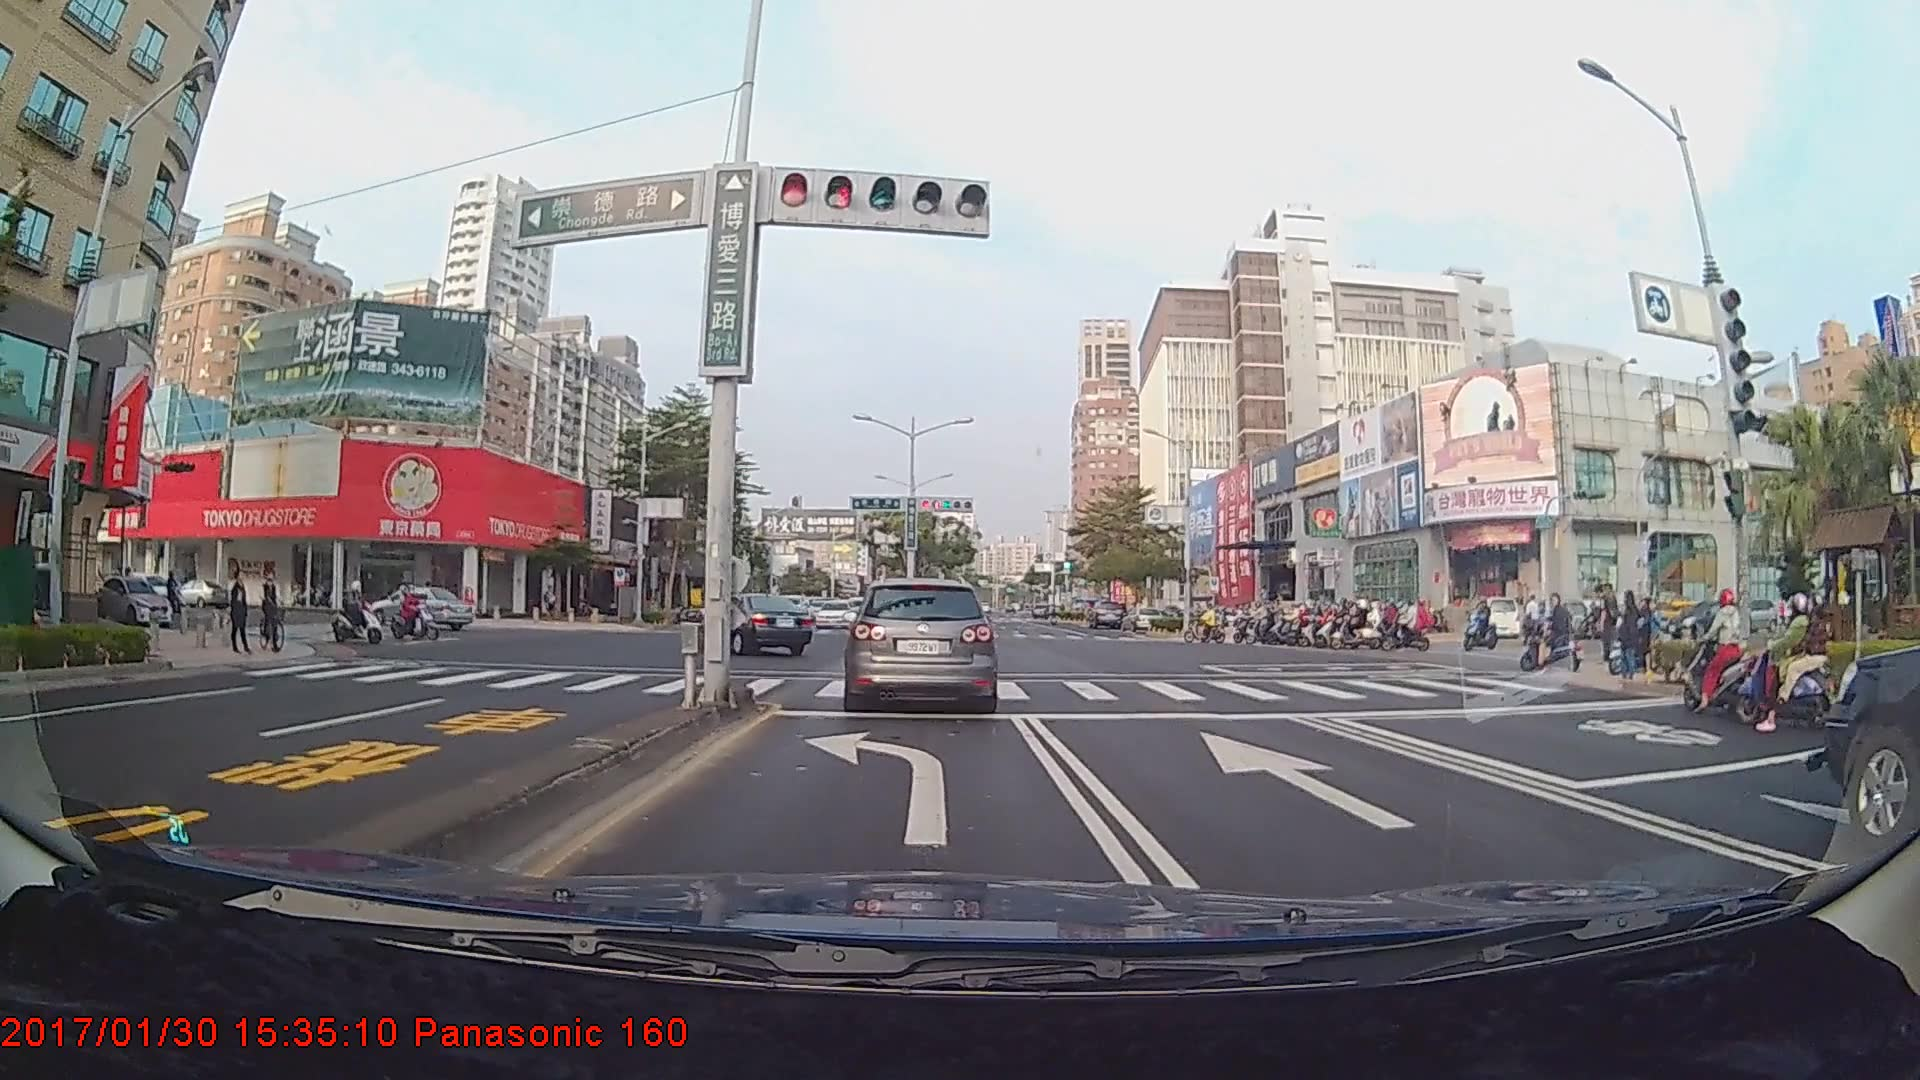pedestrian: (1614, 579, 1646, 689), (230, 572, 250, 660), (1601, 582, 1621, 666)
rider: (1736, 593, 1841, 736), (1691, 586, 1784, 724), (1516, 600, 1590, 671), (1605, 588, 1660, 680), (328, 578, 383, 649), (376, 578, 437, 639), (255, 566, 294, 651), (1386, 592, 1429, 654), (1454, 596, 1499, 651), (1333, 599, 1379, 651), (1226, 596, 1272, 641), (1182, 606, 1229, 646), (1285, 603, 1326, 644), (1309, 597, 1345, 643), (1298, 601, 1334, 644)
vehicle: (1815, 550, 1919, 846), (841, 574, 999, 709), (696, 591, 812, 657), (368, 584, 472, 633), (1087, 599, 1129, 630)
